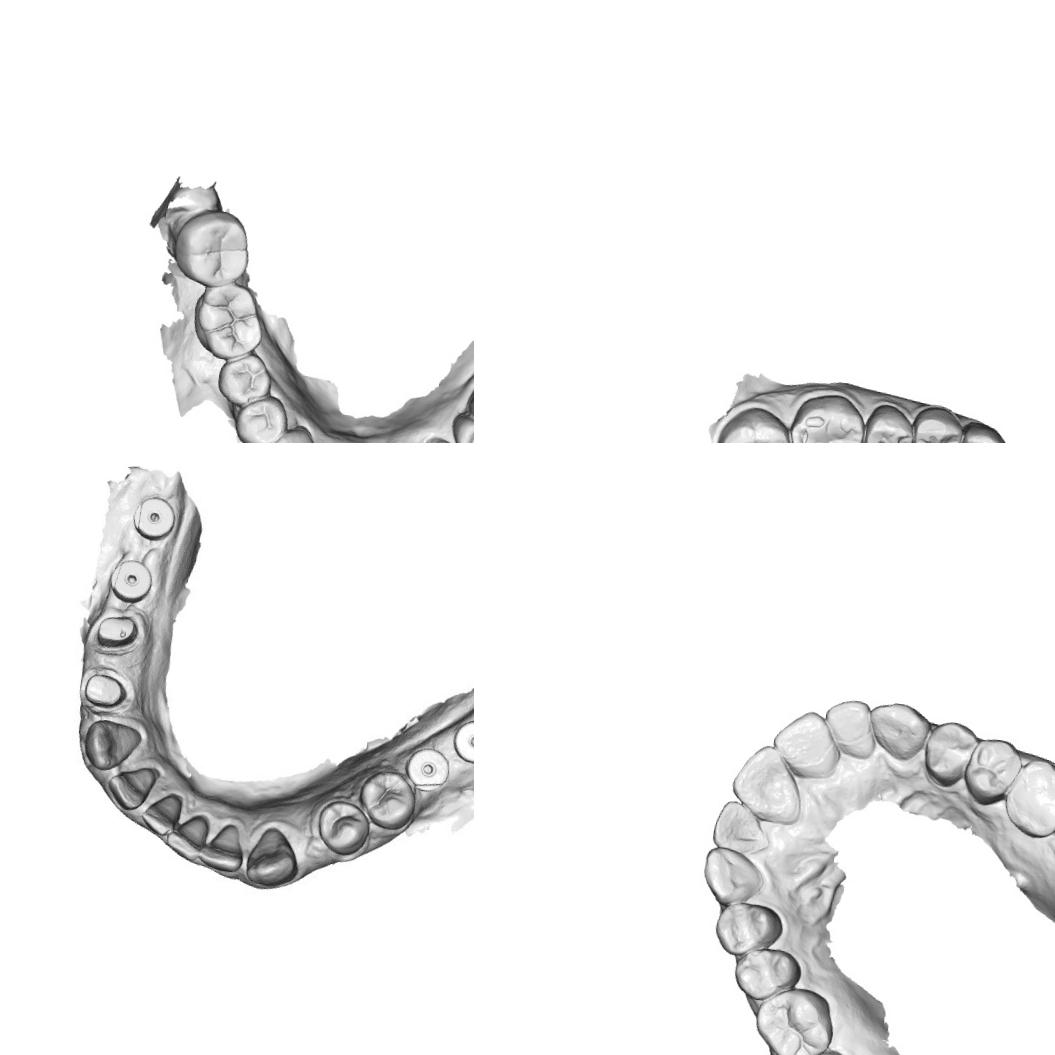canine: (697, 843, 769, 912), (863, 698, 934, 766), (73, 711, 143, 778), (242, 821, 305, 894), (954, 416, 1012, 443), (262, 423, 320, 443), (445, 412, 474, 443)
crown: (84, 606, 150, 654), (78, 665, 131, 712)
implant: (125, 491, 177, 539), (106, 554, 153, 603), (406, 748, 450, 796), (453, 718, 474, 764)
incisor: (724, 740, 810, 828), (768, 705, 846, 783), (818, 694, 882, 762), (709, 797, 776, 858), (106, 760, 156, 811), (202, 819, 242, 871), (168, 813, 209, 858), (140, 788, 180, 833)
molar: (168, 204, 255, 294), (185, 277, 271, 366), (749, 982, 840, 1055), (998, 754, 1055, 844), (783, 387, 872, 443), (709, 400, 800, 443)
premolar: (710, 897, 787, 963), (960, 734, 1026, 810), (730, 941, 806, 1006), (918, 718, 980, 792), (213, 348, 276, 412), (230, 390, 293, 443), (361, 773, 416, 827), (318, 797, 368, 855), (857, 401, 920, 443), (907, 402, 966, 443), (462, 382, 474, 437)
